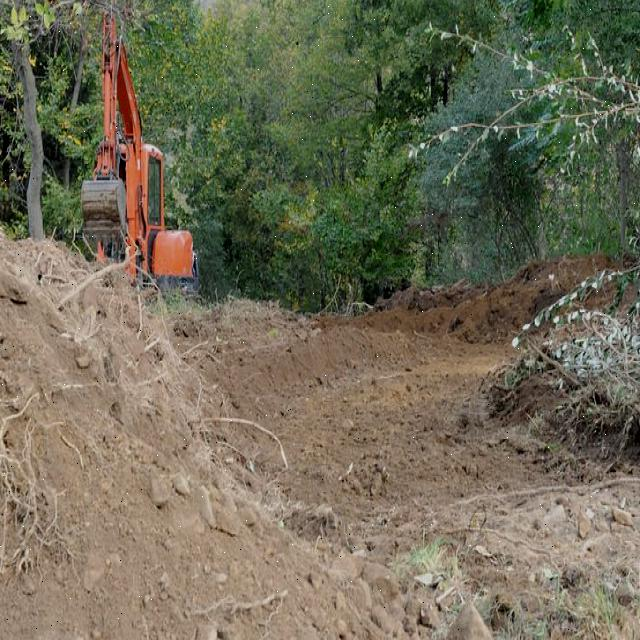Excavator: (78, 9, 195, 293)
